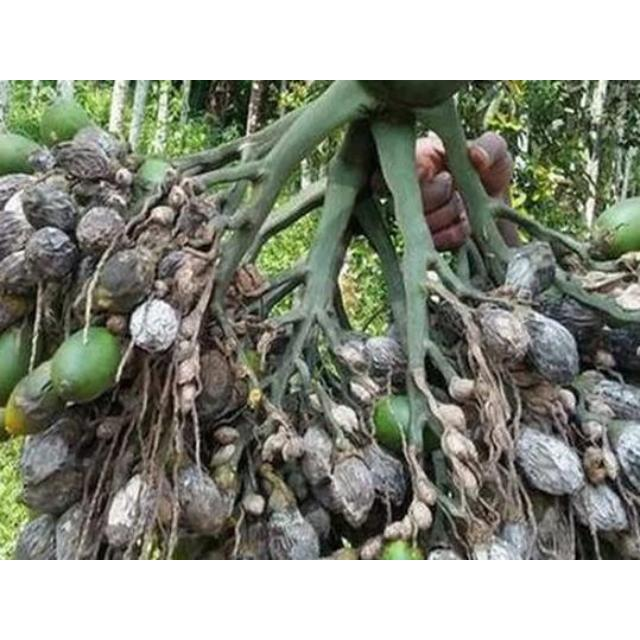damaged: (17, 418, 91, 510), (515, 428, 583, 496), (172, 464, 234, 538), (102, 472, 158, 550), (358, 80, 484, 114), (5, 362, 62, 436), (324, 454, 380, 524), (360, 444, 408, 512), (21, 225, 77, 282), (570, 480, 628, 534), (502, 242, 556, 300), (580, 266, 638, 320), (478, 306, 530, 364), (580, 373, 640, 423), (22, 182, 78, 234), (468, 131, 512, 197), (594, 194, 640, 256), (38, 97, 92, 145), (74, 207, 126, 255), (430, 294, 474, 350), (328, 256, 358, 336), (610, 422, 640, 500), (532, 502, 572, 560), (372, 396, 414, 450), (0, 326, 30, 400), (14, 514, 62, 560), (299, 425, 335, 485), (54, 505, 94, 559), (112, 371, 152, 425), (484, 519, 536, 559), (68, 252, 100, 316), (362, 336, 408, 380), (231, 514, 275, 560), (260, 322, 296, 376), (0, 131, 42, 177), (173, 196, 215, 242), (0, 249, 38, 299), (339, 121, 377, 170), (414, 134, 450, 182), (604, 328, 640, 376), (1, 213, 34, 264), (79, 126, 125, 162), (429, 450, 455, 512), (334, 338, 374, 378), (280, 382, 316, 426), (1, 176, 36, 218), (84, 186, 128, 217), (420, 170, 454, 210), (308, 472, 340, 514), (136, 215, 172, 252), (442, 429, 478, 465), (302, 504, 332, 546), (232, 264, 266, 300), (70, 177, 112, 205), (90, 280, 122, 316), (136, 158, 172, 190), (209, 458, 239, 496), (482, 91, 510, 131), (226, 372, 252, 414), (156, 250, 190, 282), (0, 290, 30, 326), (283, 466, 311, 504), (430, 222, 468, 250), (328, 404, 359, 438), (494, 212, 520, 250), (94, 413, 128, 442), (261, 431, 291, 463), (575, 369, 607, 399), (178, 306, 204, 342), (434, 404, 468, 431), (421, 418, 445, 456), (160, 446, 188, 478), (452, 463, 480, 495), (612, 528, 640, 560), (10, 111, 42, 139), (381, 540, 424, 560), (40, 173, 72, 199), (448, 376, 477, 402), (146, 205, 177, 229), (286, 371, 310, 402), (216, 159, 247, 183), (414, 476, 438, 506), (410, 500, 434, 530), (384, 324, 408, 354), (42, 326, 62, 360), (240, 492, 266, 518), (210, 443, 238, 467), (211, 426, 241, 448), (468, 144, 490, 172), (243, 349, 264, 378), (360, 535, 384, 559), (349, 382, 375, 404), (601, 448, 619, 478), (237, 180, 256, 207), (122, 152, 144, 175), (370, 168, 388, 196), (582, 419, 604, 441), (557, 388, 577, 412), (179, 382, 197, 408), (105, 315, 127, 335), (593, 350, 615, 370), (23, 504, 44, 524), (328, 546, 358, 560), (427, 548, 461, 560), (114, 168, 134, 188), (0, 407, 10, 441)
